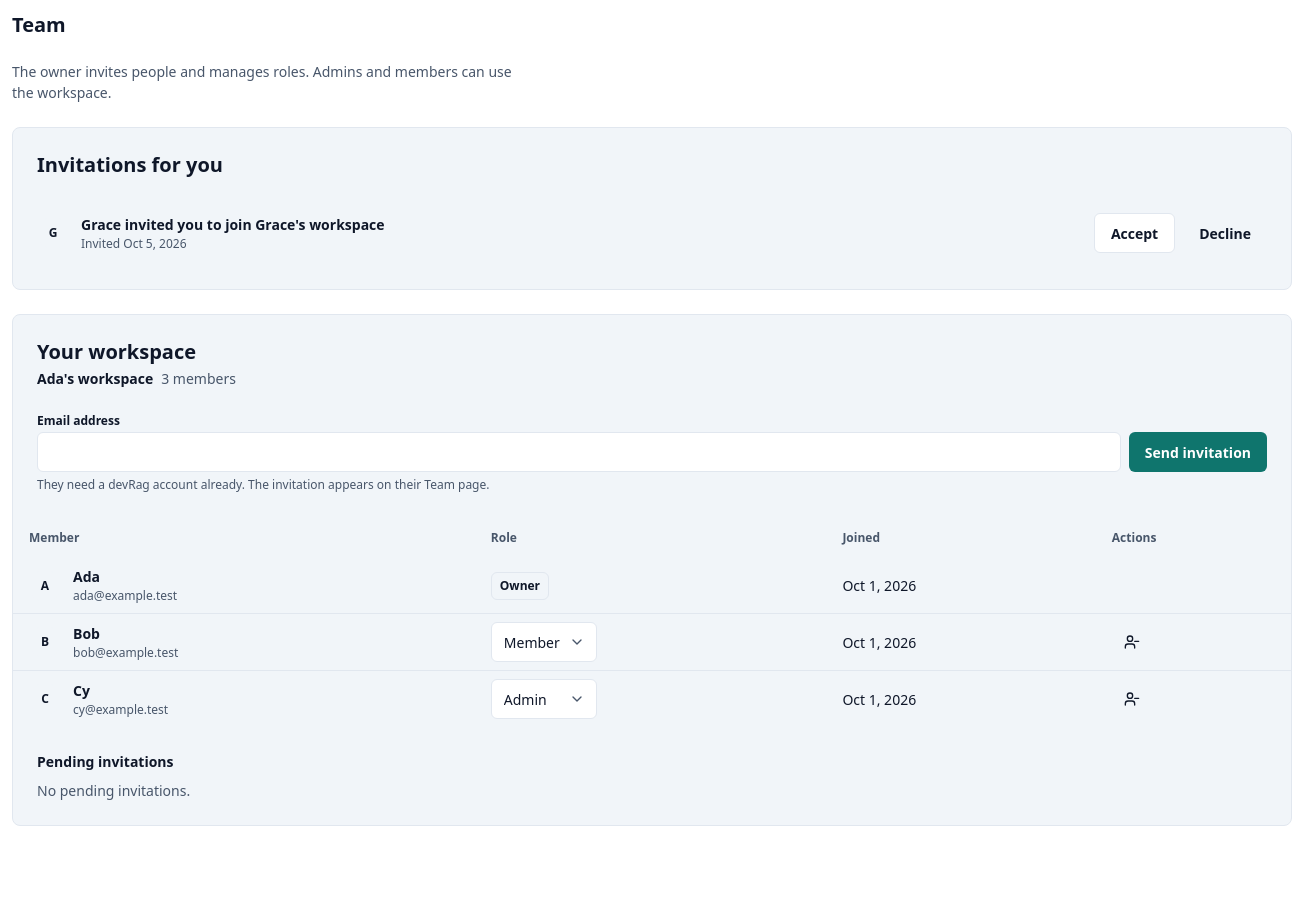
Scenario: invitations for you › declines without a confirmation, toasts, and removes the card
Click the button with aria-label "Decline invitation from Grace". click: (1225, 233)
box: [1183,213,1267,253]
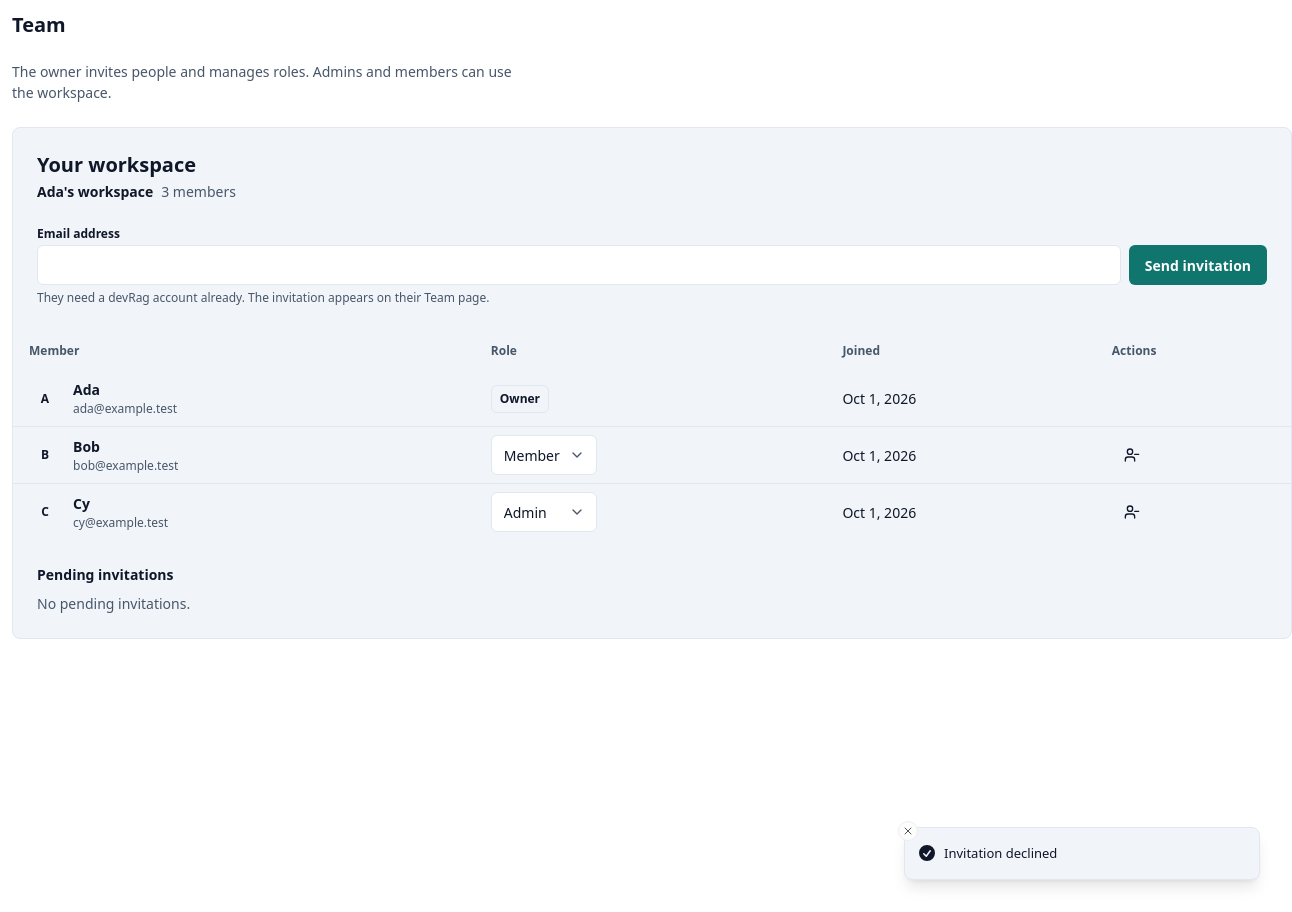
Expected: the text "Invitation declined" is shown, [944,844,1057,863]
Expected: the element with test id "invitations-for-you" is gone
